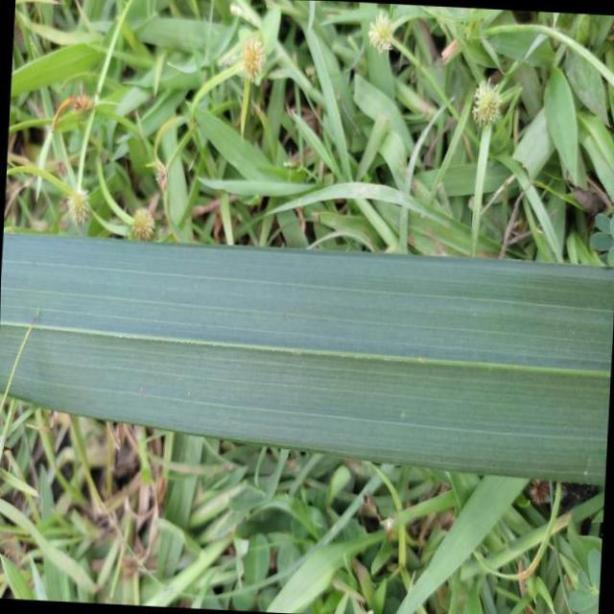Healthy: (5, 221, 614, 488)
